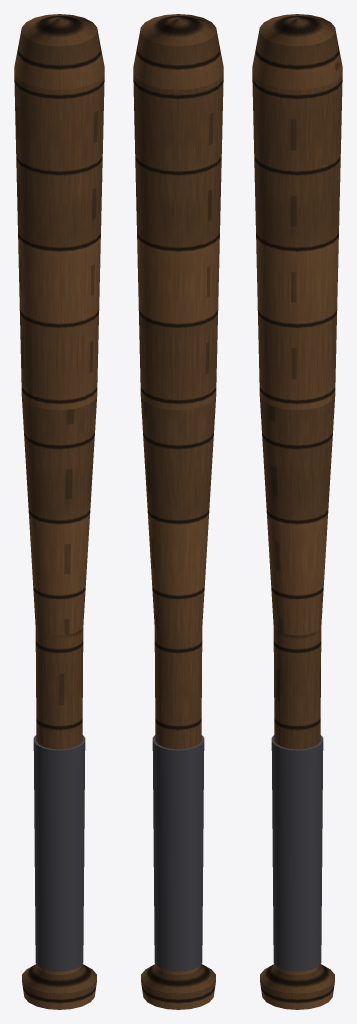
Rendered from bat.glb.
The picture shows the model from 3 angles, left to right: view 1: azimuth 30°, elevation 25°; view 2: azimuth 150°, elevation 25°; view 3: azimuth 330°, elevation 25°; orthographic projection.
Parts seen in each view (by area): view 1: bat; view 2: bat; view 3: bat.
Boxes of the visible parts, x1,y1,x2,y2 form: bat: (14, 14, 104, 1009); bat: (133, 14, 223, 1009); bat: (252, 14, 342, 1009).
Size of the model in its own units: 0.072 by 0.85 by 0.0709.
2 materials, 1 textured.
